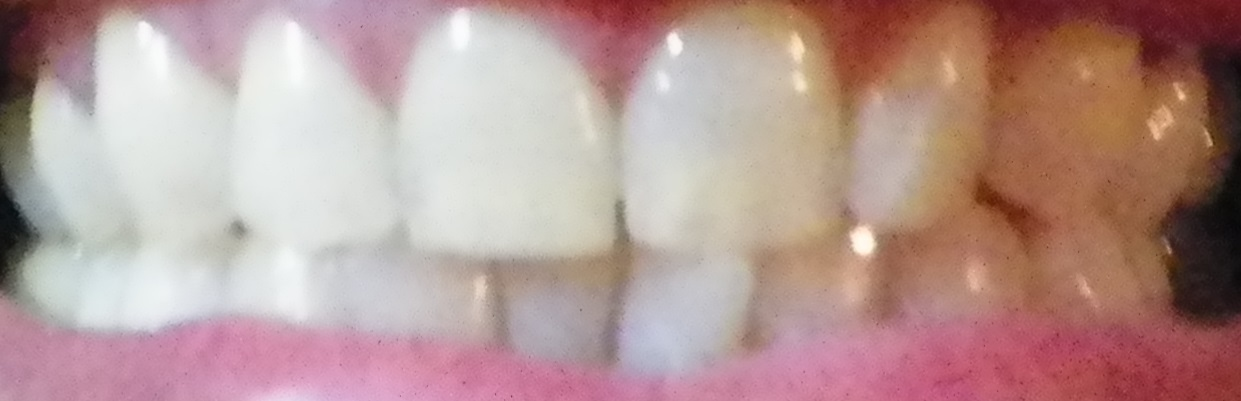boca: (12, 12, 1205, 362)
